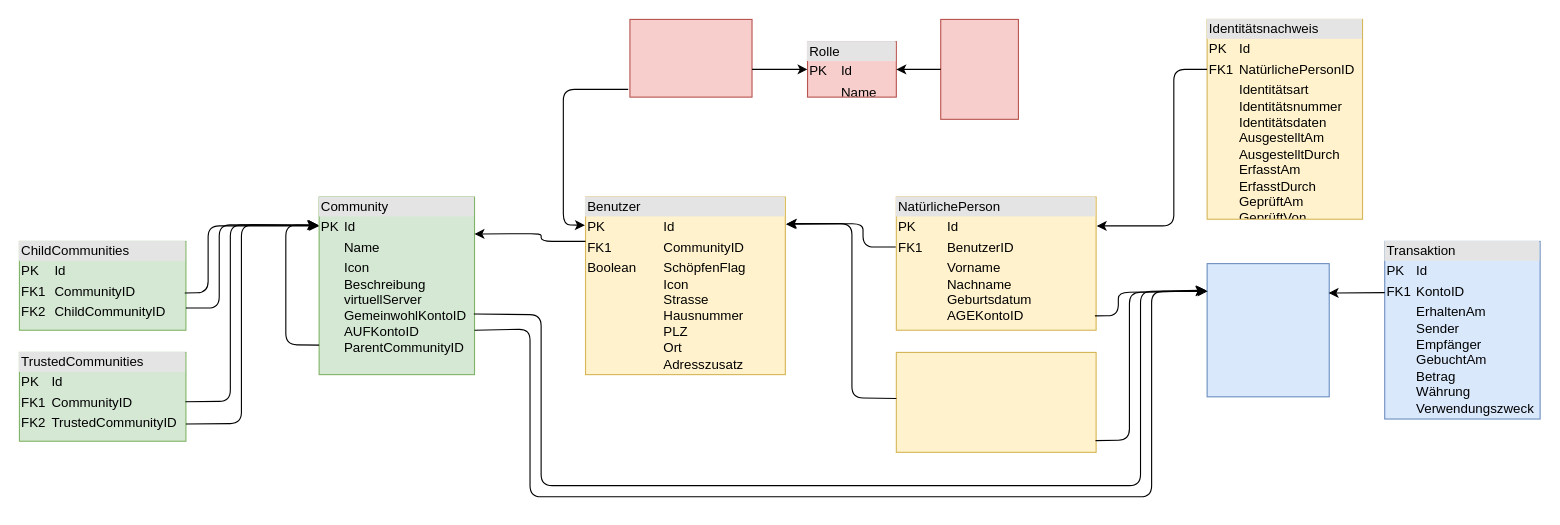
This 1560x525 diagram has some shape labels left out. The shapes that lost their labels are listed below. From the top down, each one's centre as x and y in pixels, then its label:
At [690,57]: "RollenZuordnung PK Id FK1 RolleID FK2 BenutzerID".
At [979,68]: "Recht PK Id FK1 RolleId Name Key".
At [1267,330]: "Konto PK Id Art Vergänglichkeit ErstelltAm Saldo Währung".
At [995,401]: "FiktivePerson PK Id FK1 BenutzerID Name GDDKonto".
